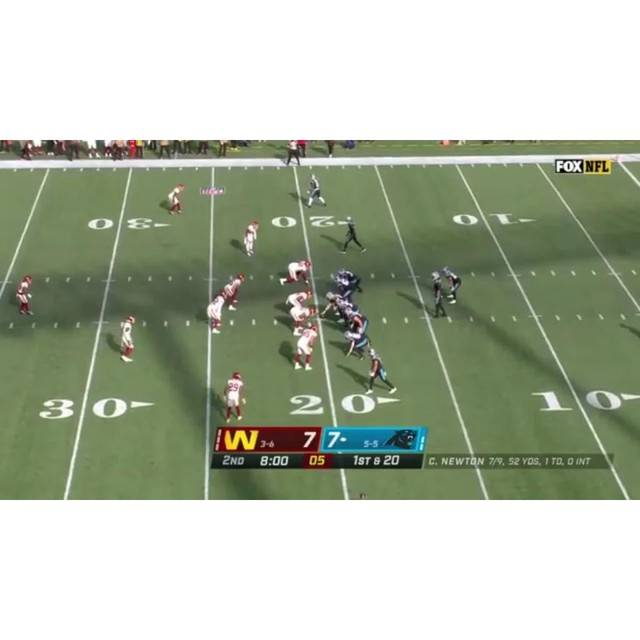american-football-player: (365, 348, 397, 394), (206, 288, 232, 334), (293, 324, 318, 371), (223, 371, 245, 422), (340, 215, 366, 252), (430, 269, 449, 318), (279, 260, 313, 287), (288, 305, 316, 336), (224, 272, 245, 311), (319, 292, 348, 320), (333, 268, 363, 295), (118, 315, 135, 362), (442, 266, 462, 304), (162, 183, 185, 216), (16, 275, 34, 315), (306, 173, 326, 208), (284, 290, 313, 314), (243, 220, 260, 256)
